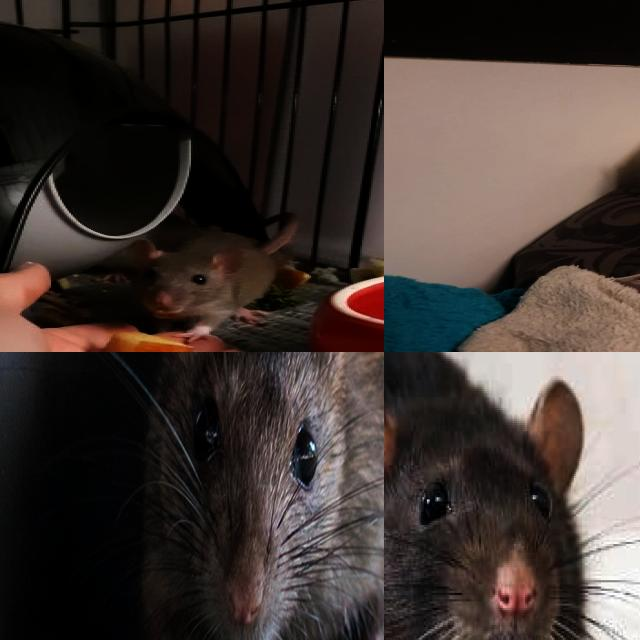rat: (102, 352, 384, 640), (384, 352, 640, 640), (121, 230, 274, 343)
